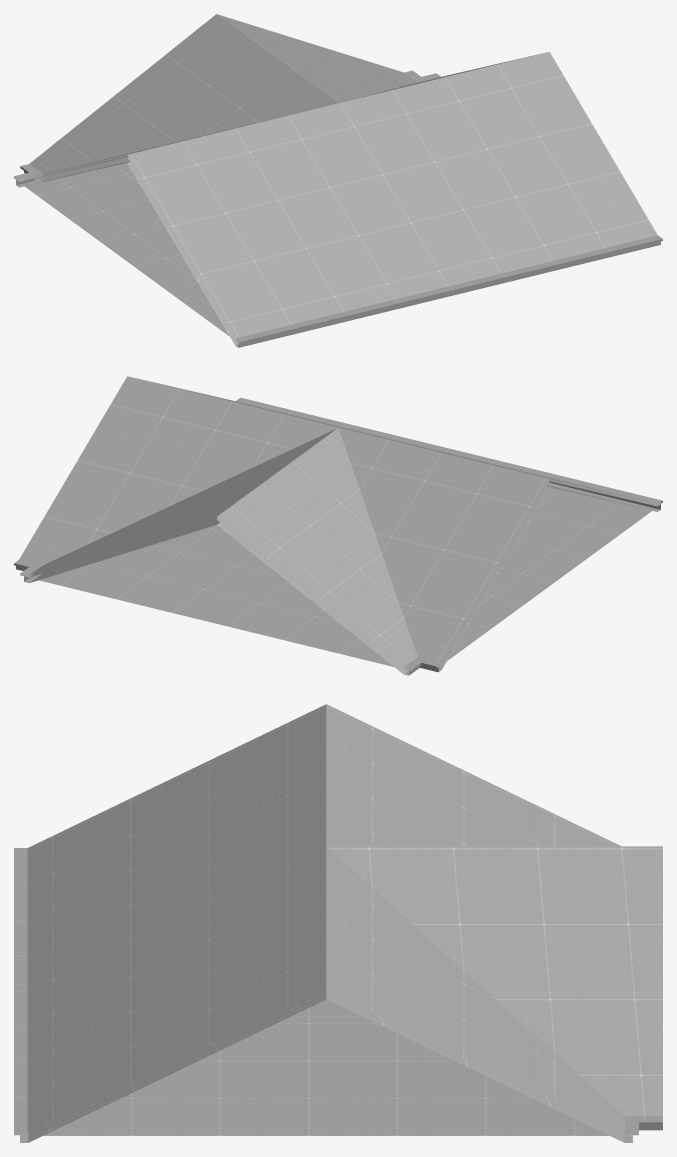
File: Roof.002.fbx
3 renders of one model, top to bottom at view 1: azimuth 30°, elevation 25°; view 2: azimuth 150°, elevation 25°; view 3: azimuth 270°, elevation 25°, orthographic. The views are drawn at different scales.
Visible parts, largest first — view 1: Roof.002; view 2: Roof.002; view 3: Roof.002.
Boxes of the visible parts, x1,y1,x2,y2 form: Roof.002: (14, 14, 662, 347); Roof.002: (14, 376, 662, 675); Roof.002: (14, 704, 662, 1142).
Bounding box in the file's own units: 760 × 192 × 733.
